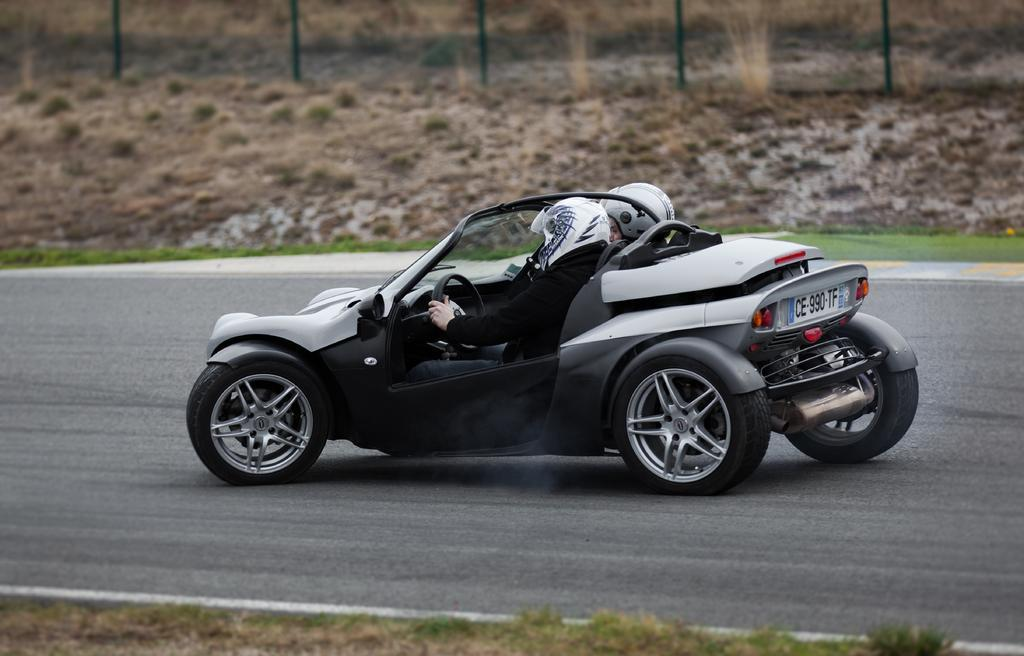helmet: (529, 196, 612, 274), (597, 181, 676, 257)
